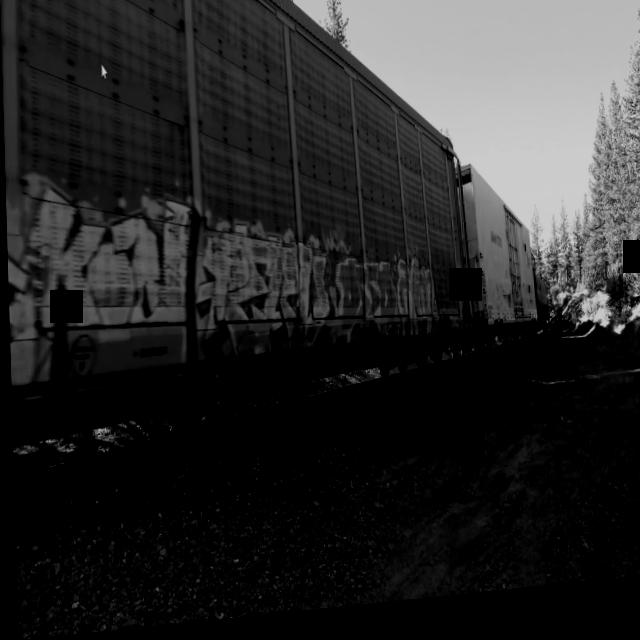autorack: (0, 0, 479, 465)
boxcar: (461, 165, 542, 372)
